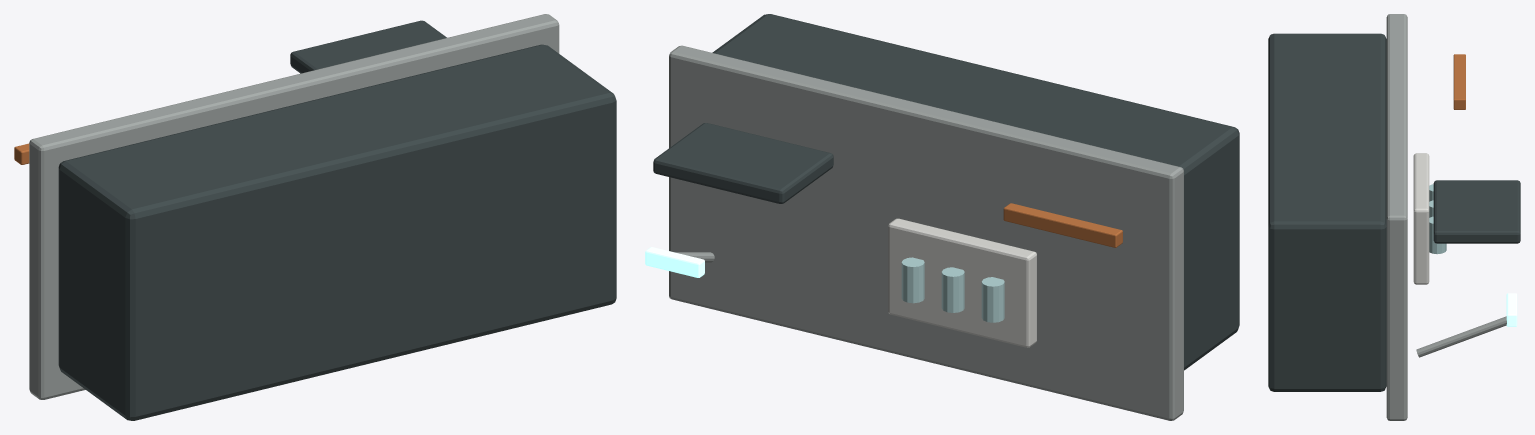
The model's file is science_workbench.glb.
3 renders of one model, left to right at view 1: azimuth 30°, elevation 25°; view 2: azimuth 150°, elevation 25°; view 3: azimuth 270°, elevation 25°, orthographic. The views are drawn at different scales.
Visible parts, largest first — view 1: BenchFrame, SteelWorktop, InstrumentScreen; view 2: SteelWorktop, BenchFrame, ContainmentTray, InstrumentScreen, ToolRail, Light_Task, SampleVial, SampleVial.001, SampleVial.002; view 3: BenchFrame, SteelWorktop, InstrumentScreen, ContainmentTray, TaskLampArm, ToolRail, Light_Task, SampleVial.002.
Part boxes in pixels (x1,y1,x2,y2): BenchFrame: (58,44,616,420); SteelWorktop: (29,14,559,399); InstrumentScreen: (290,20,446,73); SteelWorktop: (669,45,1183,420); BenchFrame: (712,14,1239,370); ContainmentTray: (888,218,1036,347); InstrumentScreen: (653,123,833,203); ToolRail: (1003,203,1122,247); Light_Task: (645,247,704,277); SampleVial: (981,277,1004,322); SampleVial.001: (941,267,964,312); SampleVial.002: (901,257,924,303); BenchFrame: (1268,33,1386,391); SteelWorktop: (1386,14,1407,420); InstrumentScreen: (1433,180,1520,243); ContainmentTray: (1413,153,1429,284); TaskLampArm: (1416,316,1506,357); ToolRail: (1453,54,1465,109); Light_Task: (1506,293,1517,326); SampleVial.002: (1429,216,1446,254).
Size of the model in its own units: 2.78 by 1.3 by 1.45.
